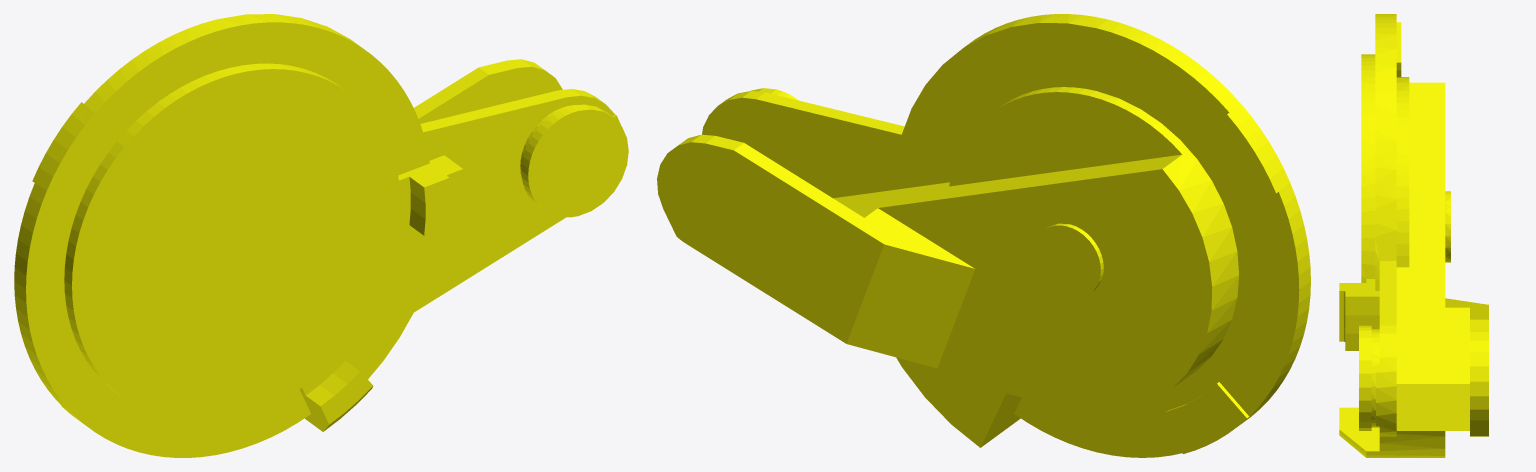
The picture shows the model from 3 angles, left to right: view 1: azimuth 30°, elevation 25°; view 2: azimuth 150°, elevation 25°; view 3: azimuth 270°, elevation 25°; orthographic projection. The views are drawn at different scales.
Visible parts, largest first — view 1: node; view 2: node; view 3: node.
Boxes of the visible parts, left/top/right/bottom form: node: left=14, top=14, right=628, bottom=457; node: left=657, top=14, right=1310, bottom=457; node: left=1339, top=14, right=1488, bottom=457.
Bounding box in the file's own units: 703 × 476 × 204.
